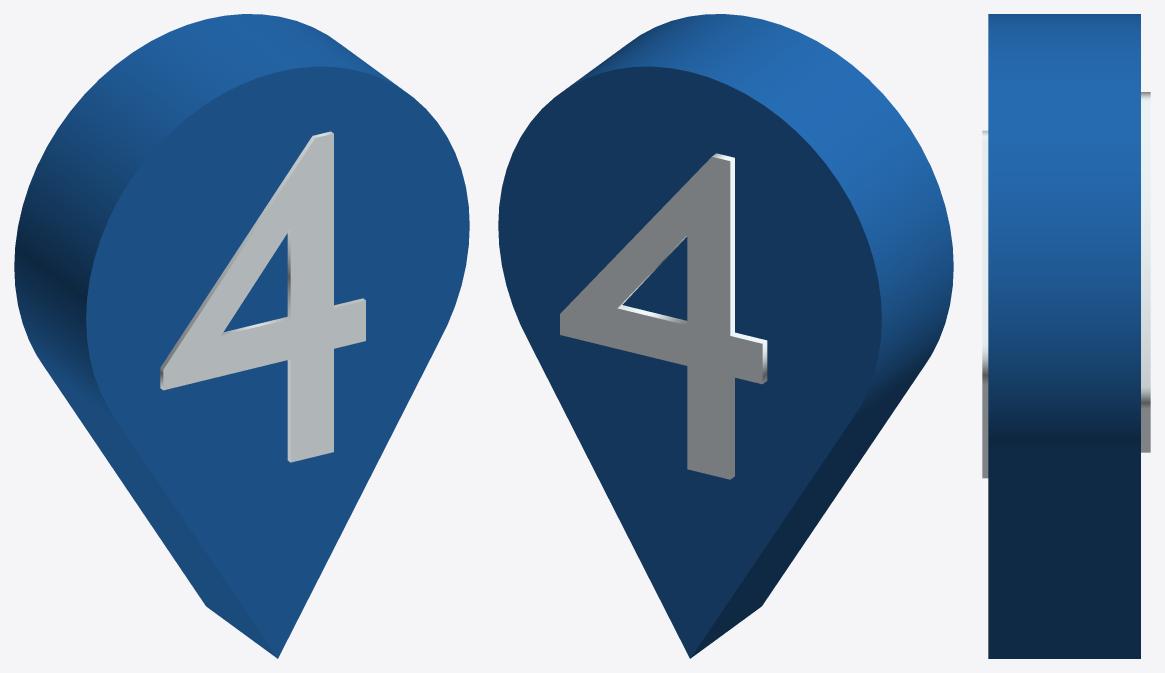
The model's file is honkan_m_pin.glb.
The picture shows the model from 3 angles, left to right: view 1: azimuth 30°, elevation 25°; view 2: azimuth 150°, elevation 25°; view 3: azimuth 270°, elevation 25°; orthographic projection. The views are drawn at different scales.
Visible parts, largest first — view 1: 円.016, テキスト.038; view 2: 円.016, テキスト.039; view 3: 円.016, テキスト.039, テキスト.038.
Boxes of the visible parts, x1,y1,x2,y2 form: 円.016: (14,14,469,658); テキスト.038: (160,131,365,462); 円.016: (498,14,953,658); テキスト.039: (560,153,767,479); 円.016: (988,14,1140,658); テキスト.039: (1141,92,1150,452); テキスト.038: (982,130,988,478).
Bounding box in the file's own units: 2 × 2.92 × 0.7172.
Materials: 3 (3 with a texture image).
